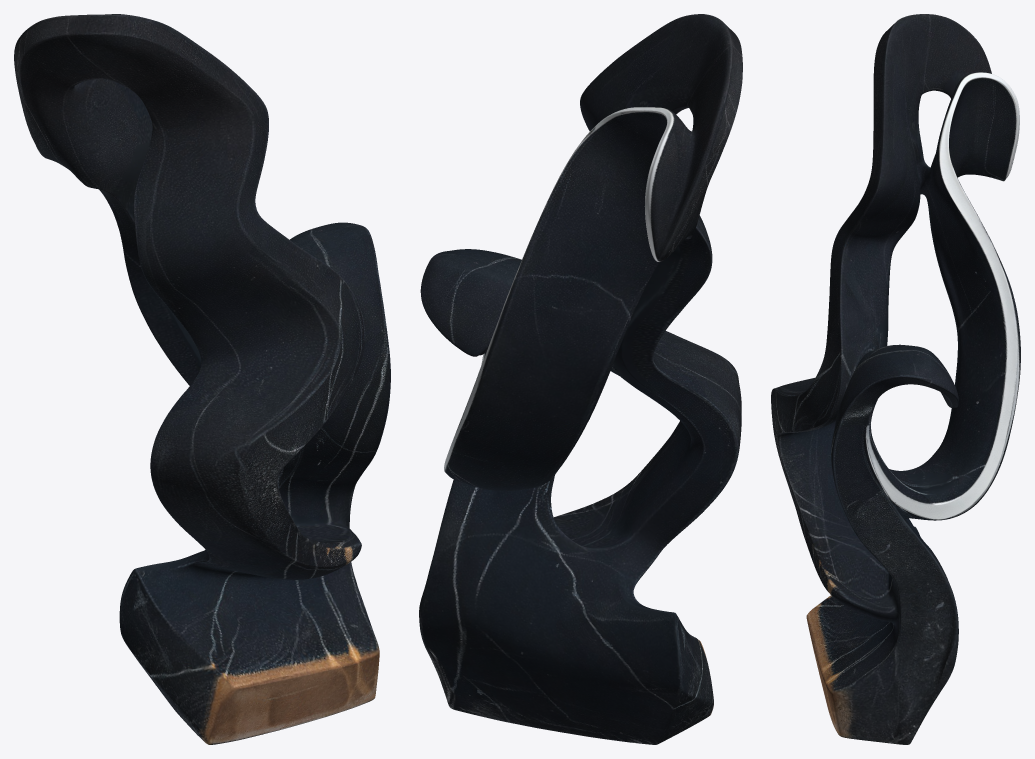
Rendered from open-curls-uploaded-v1.glb.
3 views of the same model, side by side, from view 1: azimuth 30°, elevation 25°; view 2: azimuth 150°, elevation 25°; view 3: azimuth 270°, elevation 25° (orthographic). The views are drawn at different scales.
Bounding box in the file's own units: 0.8766 × 1.9 × 0.695.
Materials: 1 (1 with a texture image).
